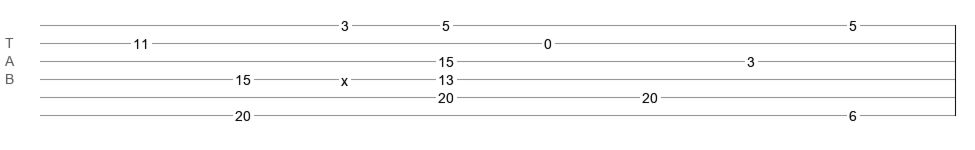0: (544, 36, 552, 46)
11: (133, 36, 149, 46)
13: (438, 72, 454, 82)
15: (235, 72, 251, 82), (438, 54, 454, 64)
20: (235, 108, 251, 118), (438, 90, 454, 100), (642, 90, 658, 100)
3: (341, 18, 349, 28), (747, 54, 755, 64)
5: (442, 18, 450, 28), (849, 18, 857, 28)
6: (849, 108, 857, 118)
x: (341, 73, 348, 81)
